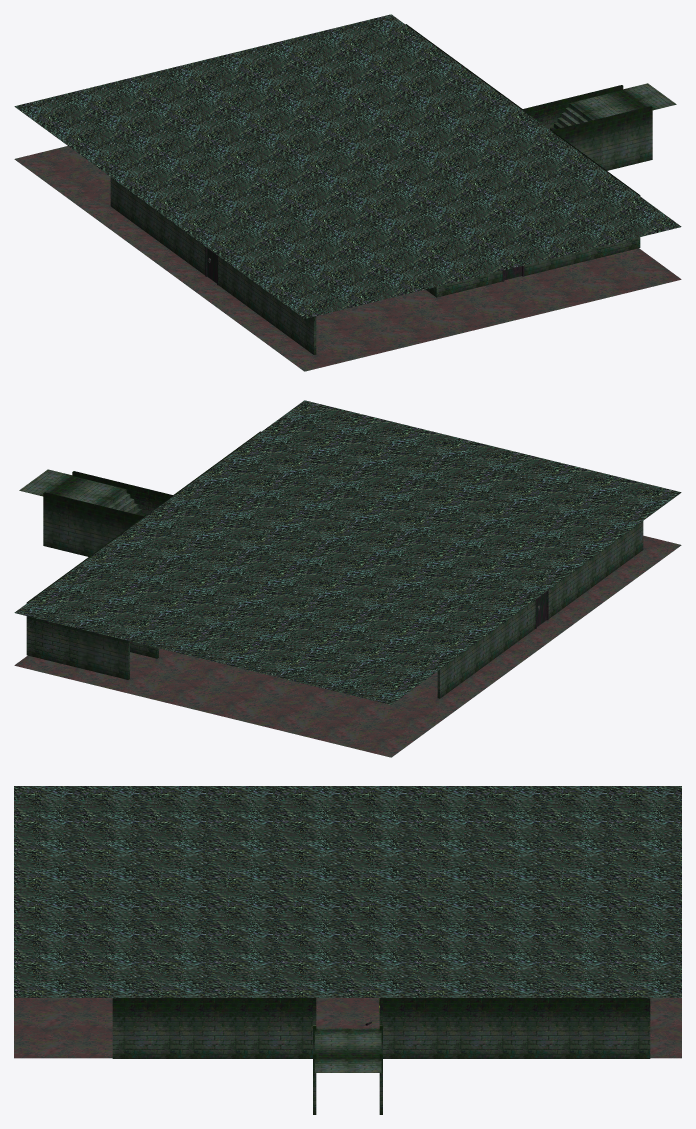
Rendered from newFloor.glb.
3 renders of one model, top to bottom at view 1: azimuth 30°, elevation 25°; view 2: azimuth 150°, elevation 25°; view 3: azimuth 270°, elevation 25°, orthographic. The views are drawn at different scales.
Parts seen in each view (by area): view 1: Ceiling, Floor, Wall.001, Stairs, WallCorner.001, Wall.014, Wall.009, Wall.011, Wall.008, Wall.010, Wall.013, WallCorner (+4 smaller); view 2: Ceiling, Floor, Wall.003, Stairs, WallCorner.004, Wall.006, WallCorner, Wall.008, Wall.013, Wall.014, Wall.010, Wall.011 (+3 smaller); view 3: Ceiling, Floor, WallCorner.006, WallCorner.004, WallCorner, WallCorner.001, Wall.002, Wall.005, Wall.016, Stairs.
Boxes of the visible parts, x1=… form: Ceiling: x1=14, y1=14, x2=681, y2=318; Floor: x1=14, y1=146, x2=681, y2=371; Wall.001: x1=600, y1=106, x2=652, y2=170; Stairs: x1=550, y1=83, x2=676, y2=130; WallCorner.001: x1=551, y1=118, x2=602, y2=166; Wall.014: x1=285, y1=305, x2=316, y2=354; Wall.009: x1=139, y1=198, x2=168, y2=248; Wall.011: x1=226, y1=262, x2=255, y2=312; Wall.008: x1=110, y1=177, x2=139, y2=227; Wall.010: x1=168, y1=220, x2=197, y2=269; Wall.013: x1=256, y1=284, x2=284, y2=333; WallCorner: x1=494, y1=88, x2=573, y2=129; Ceiling: x1=14, y1=400, x2=681, y2=704; Floor: x1=14, y1=535, x2=681, y2=757; Wall.003: x1=43, y1=492, x2=94, y2=556; Stairs: x1=19, y1=469, x2=145, y2=516; WallCorner.004: x1=26, y1=581, x2=77, y2=667; Wall.006: x1=78, y1=628, x2=129, y2=679; WallCorner: x1=93, y1=504, x2=144, y2=552; Wall.008: x1=437, y1=648, x2=468, y2=698; Wall.013: x1=585, y1=542, x2=614, y2=591; Wall.014: x1=614, y1=521, x2=643, y2=570; Wall.010: x1=498, y1=606, x2=527, y2=655; Wall.011: x1=556, y1=563, x2=585, y2=613; Ceiling: x1=14, y1=786, x2=681, y2=997; Floor: x1=14, y1=998, x2=681, y2=1058; WallCorner.006: x1=112, y1=998, x2=181, y2=1058; WallCorner.004: x1=581, y1=998, x2=650, y2=1058; WallCorner: x1=379, y1=998, x2=448, y2=1058; WallCorner.001: x1=248, y1=998, x2=316, y2=1058; Wall.002: x1=448, y1=998, x2=514, y2=1058; Wall.005: x1=515, y1=998, x2=581, y2=1058; Wall.016: x1=181, y1=998, x2=247, y2=1058; Stairs: x1=314, y1=1028, x2=381, y2=1072.
Size of the model in its own units: 40.01 by 4.1 by 40.01.
7 materials, 6 textured.
